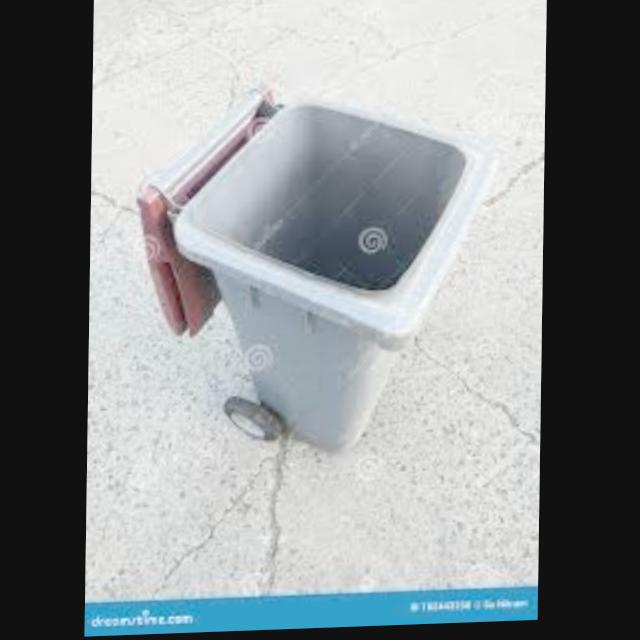Trash_Can_Empty: (169, 92, 501, 466)
